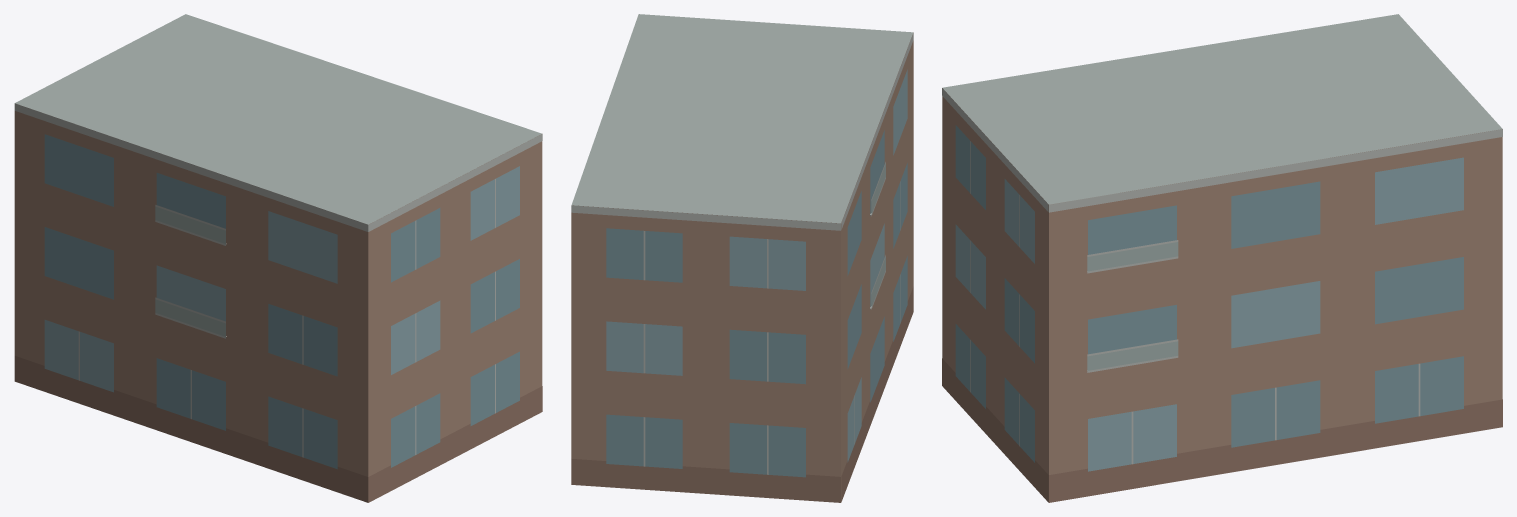
Rendered from survey-upis-32868783.glb.
3 views of the same model, side by side, from view 1: azimuth 30°, elevation 25°; view 2: azimuth 150°, elevation 25°; view 3: azimuth 270°, elevation 25° (orthographic). The views are drawn at different scales.
Parts seen in each view (by area): view 1: survey-upis-32868783.tmp; view 2: survey-upis-32868783.tmp; view 3: survey-upis-32868783.tmp.
Boxes of the visible parts, box(x1,y1,x2,y2) form: survey-upis-32868783.tmp: box(14, 14, 542, 502); survey-upis-32868783.tmp: box(571, 14, 913, 502); survey-upis-32868783.tmp: box(942, 14, 1502, 502).
Bounding box in the file's own units: 12.56 × 9.15 × 15.6.
